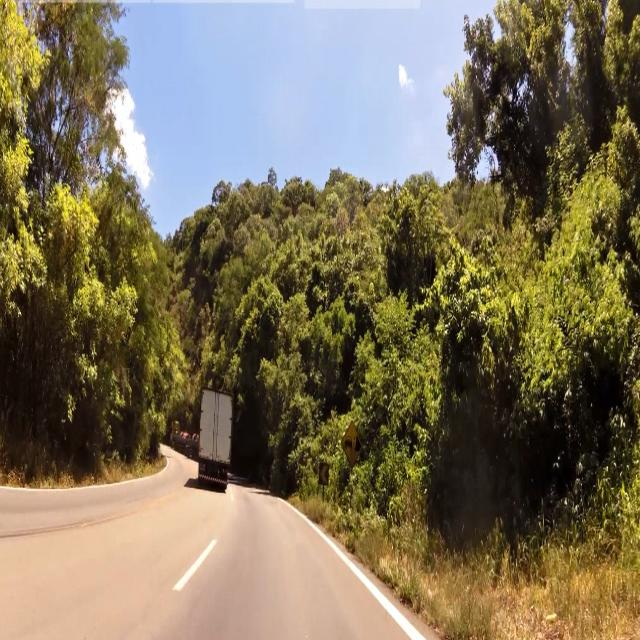A-27: (342, 424, 363, 468)
